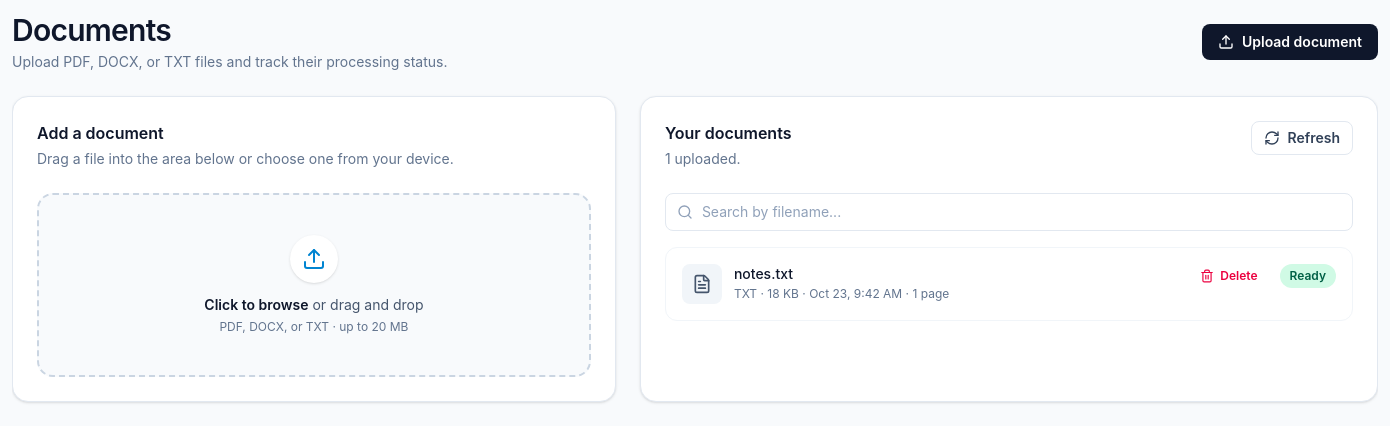
Test case: DocumentsPage › shows an error and keeps the row when deletion fails
expect the link "notes.txt" is shown: met, box top-left (734, 265), bottom-right (793, 282)
Click the button with aria-label "Delete notes.txt" at coordinates (1229, 276), box top-left (1190, 264), bottom-right (1268, 288)
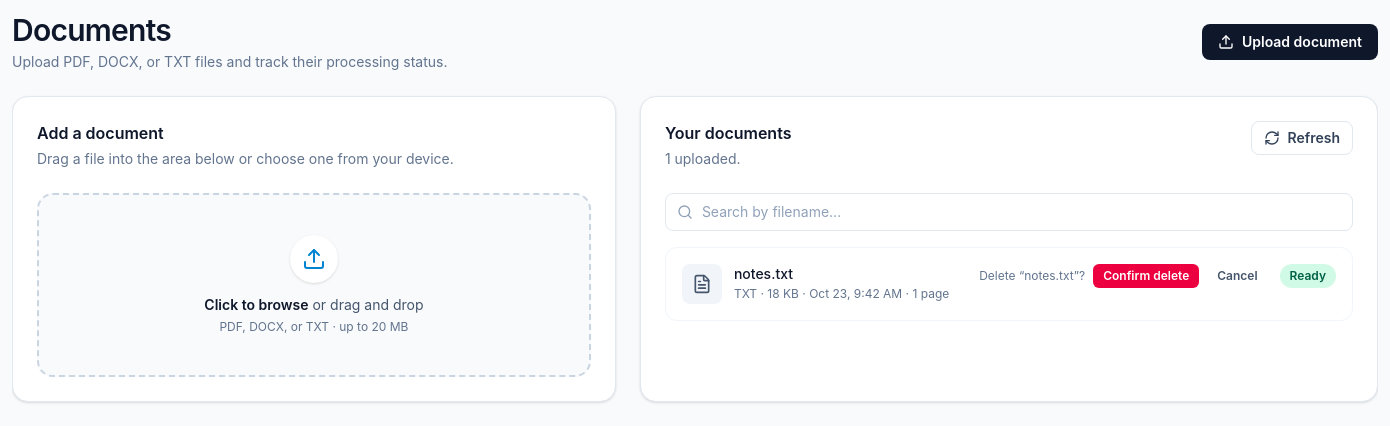
Click the button "Confirm delete" at coordinates (1146, 276), box top-left (1093, 264), bottom-right (1199, 288)
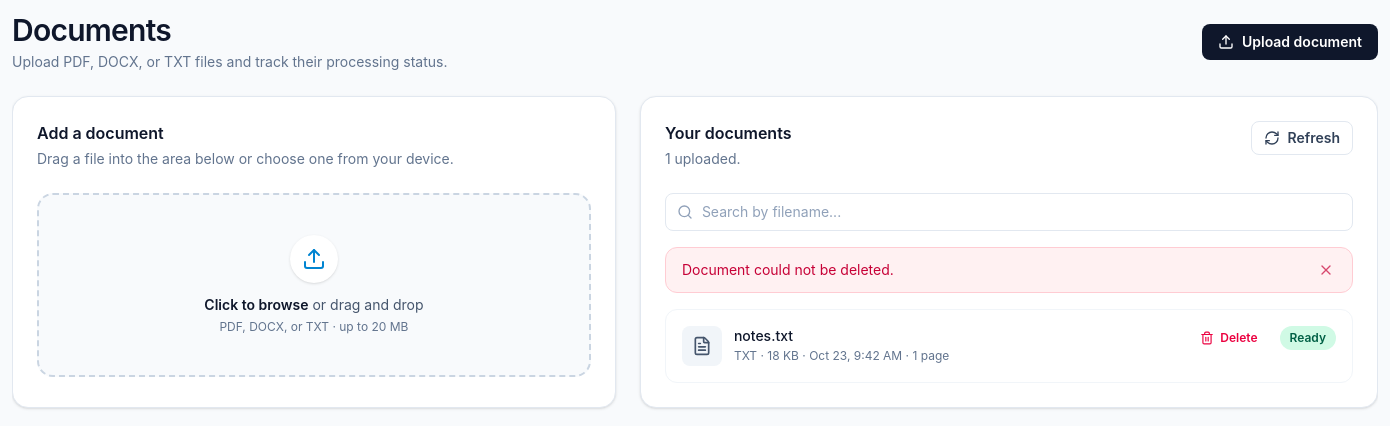
expect the link "notes.txt" is shown: met, box top-left (734, 327), bottom-right (793, 344)
expect the text "Document could not be deleted." is shown: met, box top-left (682, 260), bottom-right (894, 280)
